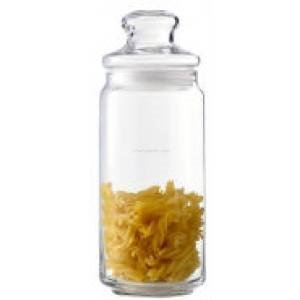Rec_Glass: (97, 5, 211, 297)
